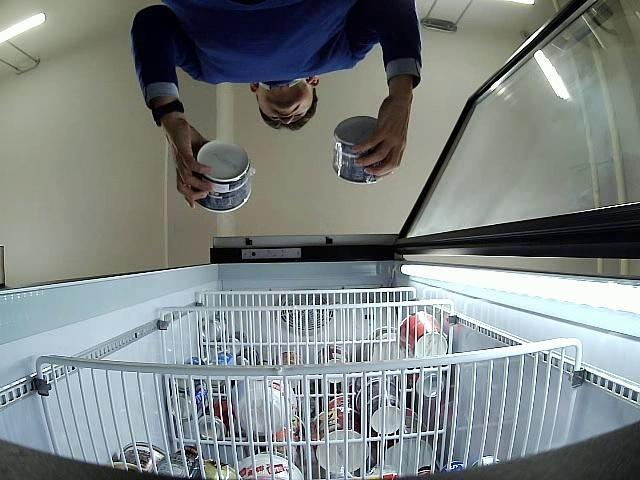07_buldak_L: (192, 139, 252, 212), (334, 116, 384, 184)
